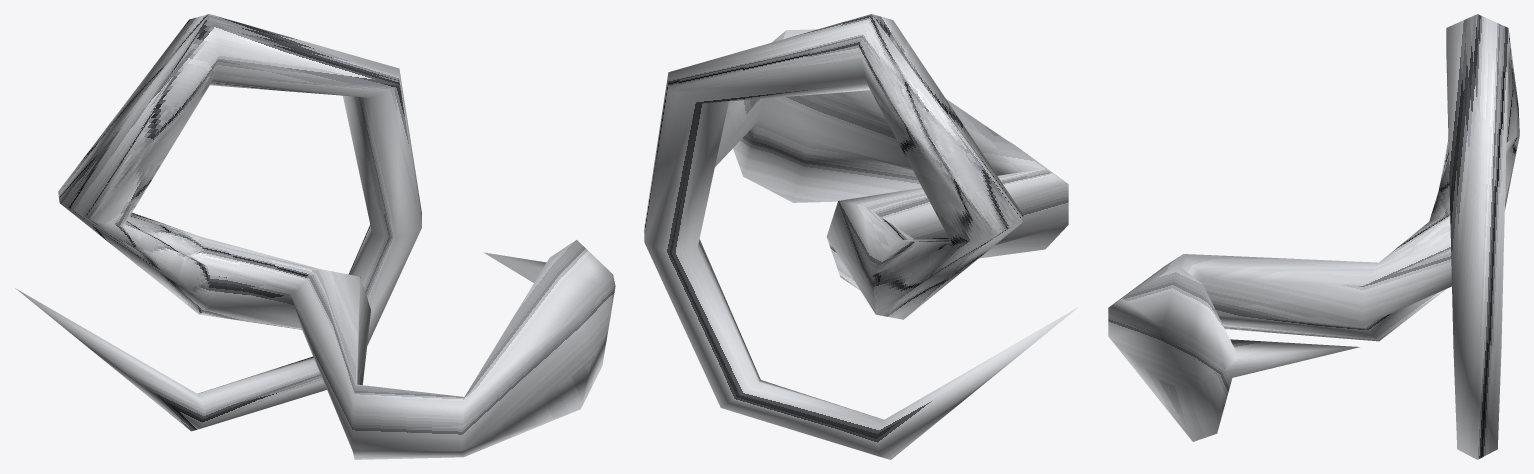
Rendered from snake_000007.obj.
3 renders of one model, left to right at view 1: azimuth 30°, elevation 25°; view 2: azimuth 150°, elevation 25°; view 3: azimuth 270°, elevation 25°, orthographic. The views are drawn at different scales.
Parts seen in each view (by area): view 1: Cylinder; view 2: Cylinder; view 3: Cylinder.
Part boxes in pixels (x1,y1,x2,y2): Cylinder: [15, 14, 615, 459]; Cylinder: [644, 14, 1078, 459]; Cylinder: [1108, 14, 1519, 459].
Size of the model in its own units: 2.75 by 2.32 by 2.19.
